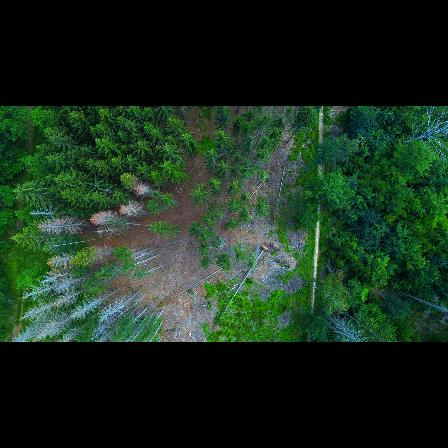Dead: (400, 109, 448, 147), (326, 308, 369, 341), (70, 290, 116, 320), (98, 293, 137, 320), (18, 299, 63, 322), (36, 313, 74, 339), (93, 309, 128, 337), (14, 318, 53, 341), (35, 219, 83, 234), (52, 287, 88, 307), (88, 206, 121, 227), (46, 251, 78, 269), (21, 286, 62, 299), (56, 276, 89, 292), (26, 204, 58, 220), (37, 270, 76, 283), (118, 200, 146, 218), (132, 181, 155, 196)
